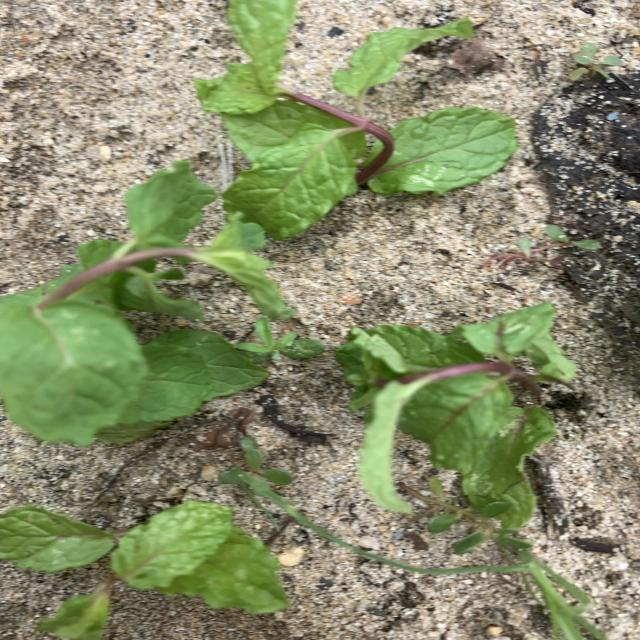crop: (0, 162, 290, 445), (194, 0, 516, 240), (336, 303, 580, 529), (0, 501, 288, 640)
weed: (317, 529, 607, 640), (399, 476, 531, 554), (482, 224, 600, 268), (237, 317, 324, 359), (219, 468, 291, 506), (569, 42, 622, 81), (240, 436, 264, 471)
